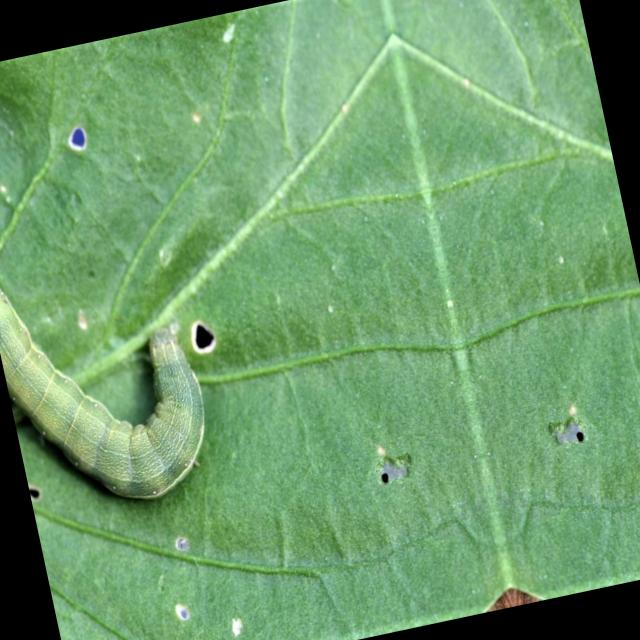Armyworm: (1, 167, 245, 566)
Armyworm_damage: (53, 105, 111, 209), (172, 304, 245, 374), (359, 438, 426, 505), (547, 401, 599, 463), (28, 475, 52, 527)
